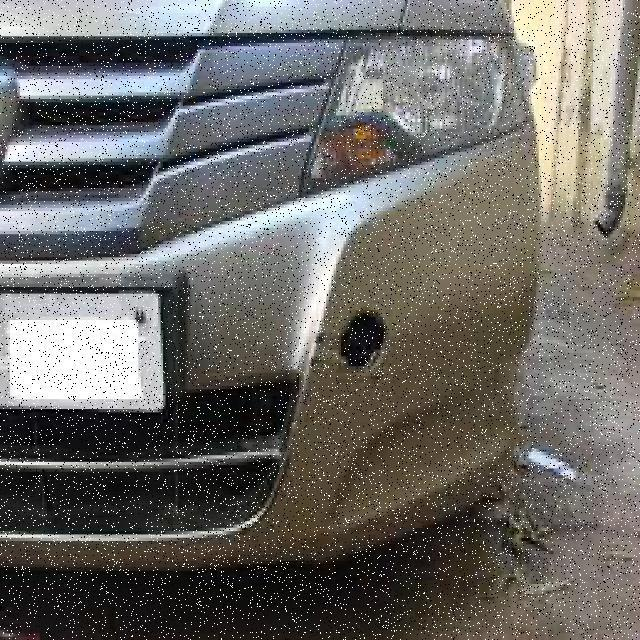front-bumper-dent: (0, 182, 539, 564)
